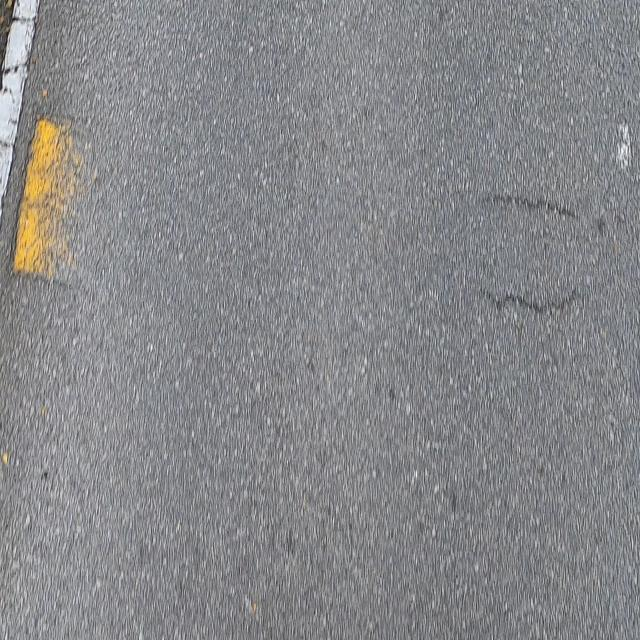Retak-Melintang: (484, 188, 581, 219), (487, 288, 578, 316)
